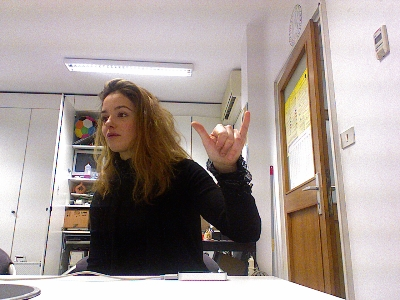六六六: (189, 109, 251, 167)
